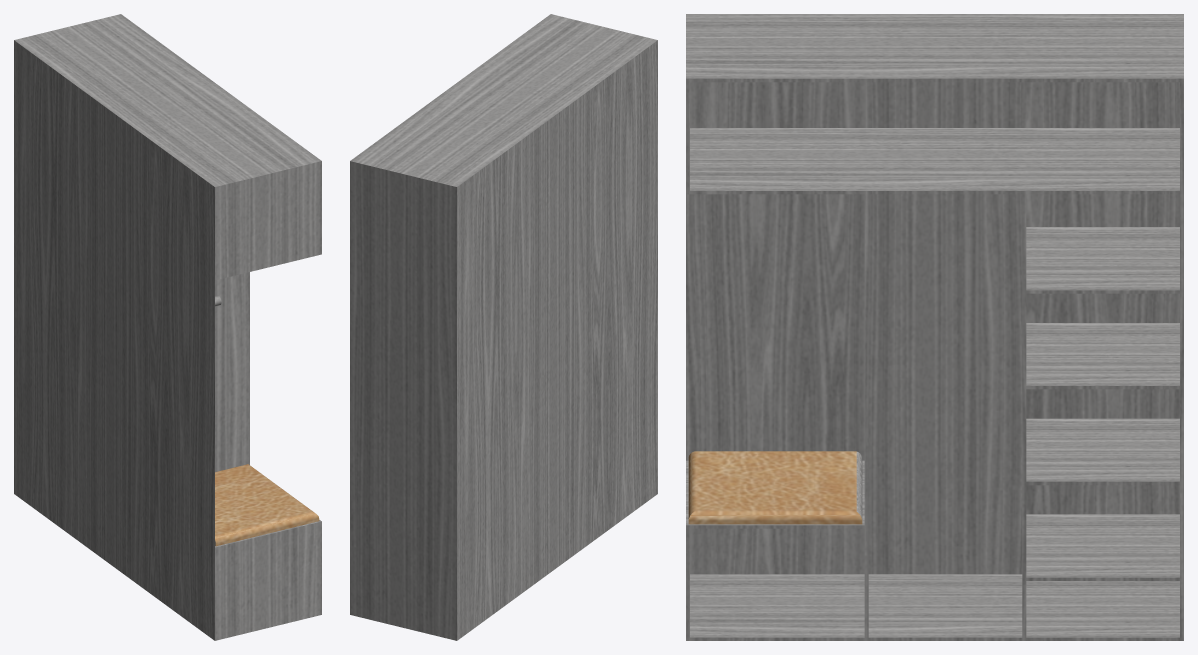
File: Tugay AR.glb
3 views of the same model, side by side, from view 1: azimuth 30°, elevation 25°; view 2: azimuth 150°, elevation 25°; view 3: azimuth 270°, elevation 25° (orthographic). The views are drawn at different scales.
Parts seen in each view (by area): view 1: color-1, color-2; view 2: color-1; view 3: color-1, color-2.
Part boxes in pixels (<box>): color-1: <box>14,14,321,640</box>; color-2: <box>215,464,319,546</box>; color-1: <box>350,14,657,640</box>; color-1: <box>686,14,1183,640</box>; color-2: <box>688,451,862,524</box>.
Size of the model in its own units: 0.6 by 2.43 by 1.95.
2 materials, 2 textured.
